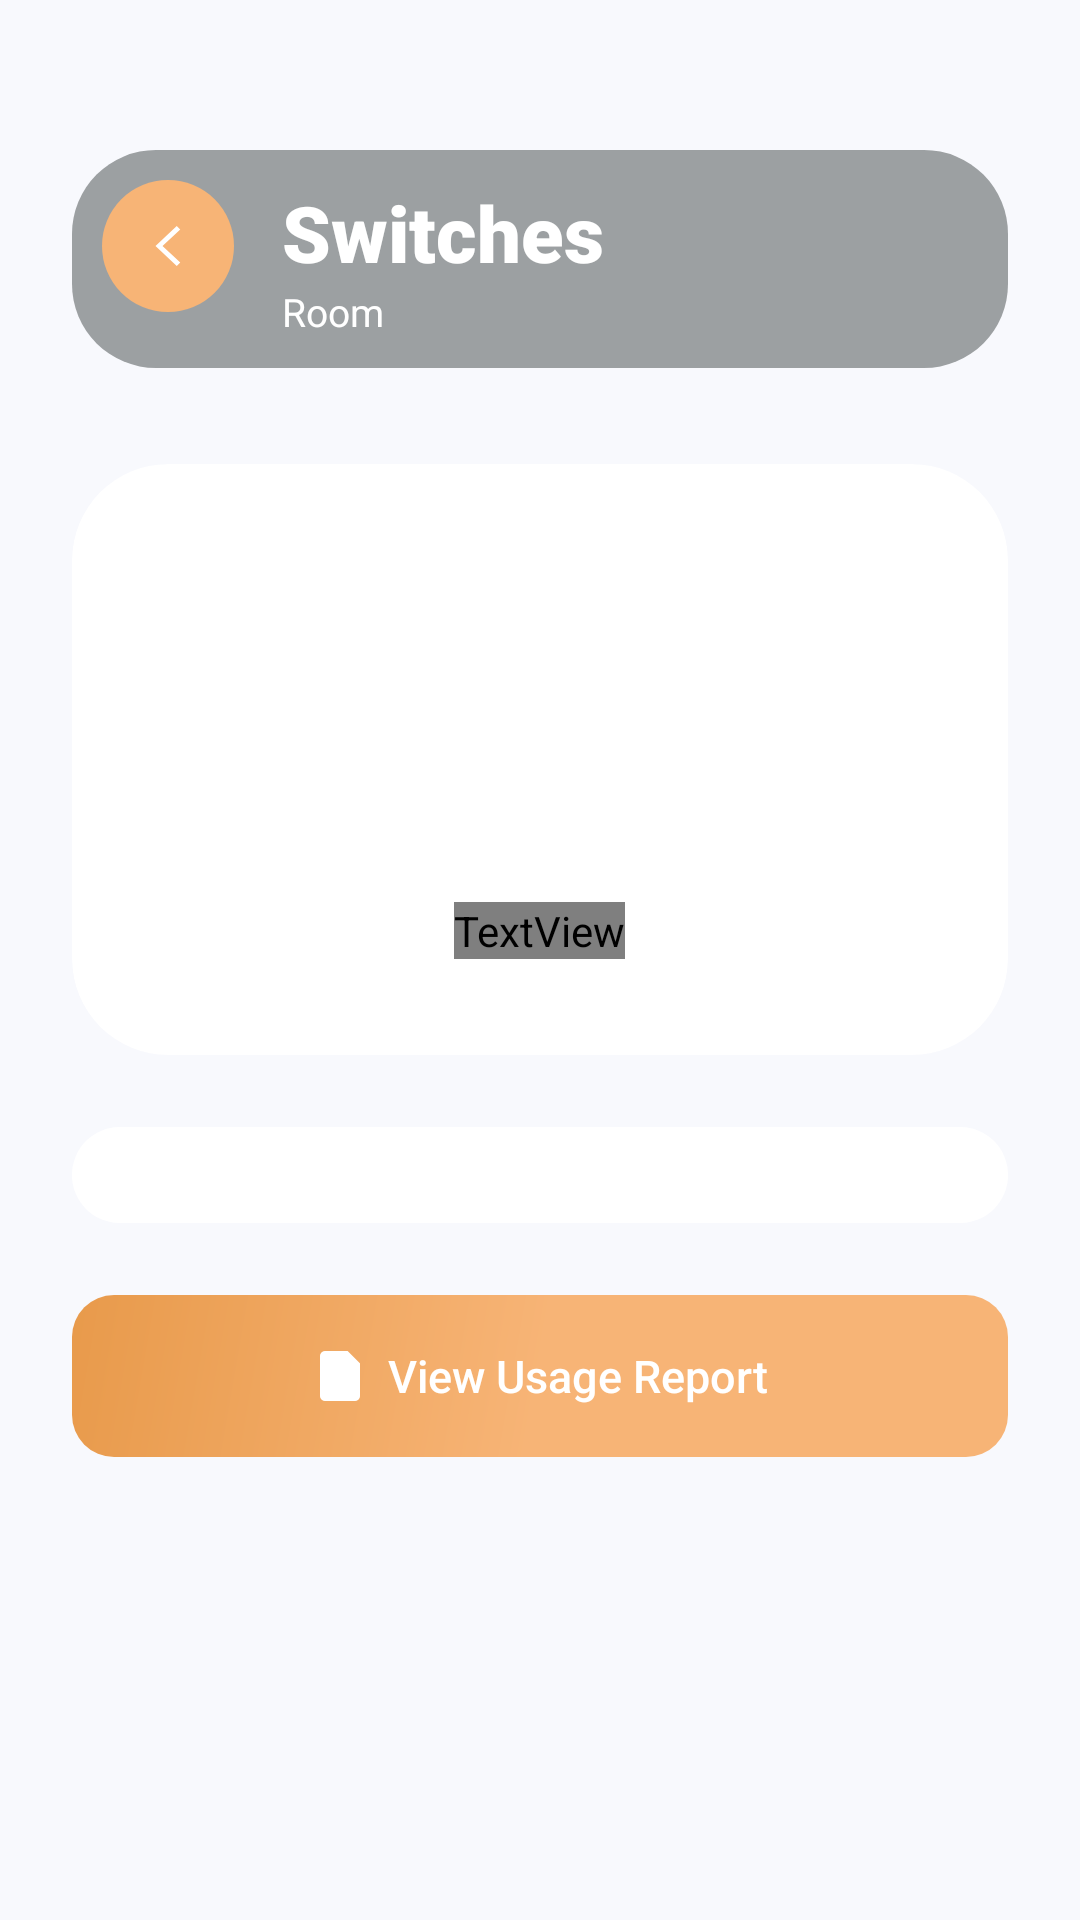

Icon click points for this 1080 x 1920 phone screenshot, format (x=x, y=y):
back: (x=168, y=246)
